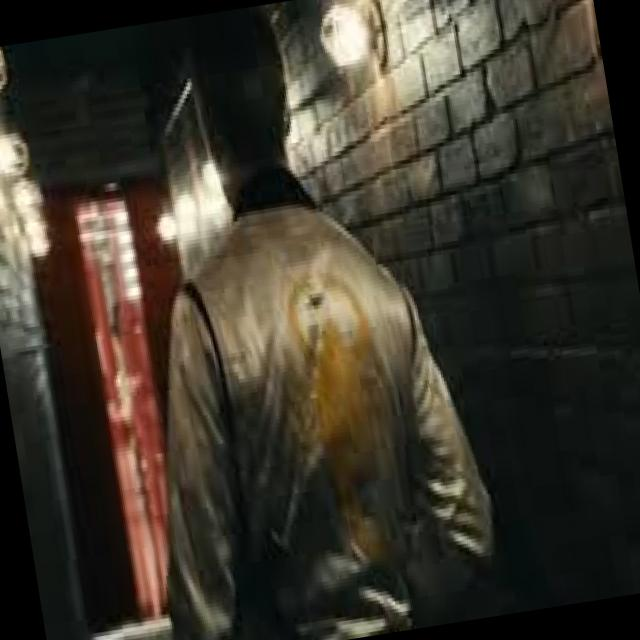Jacket: (70, 138, 543, 640)
